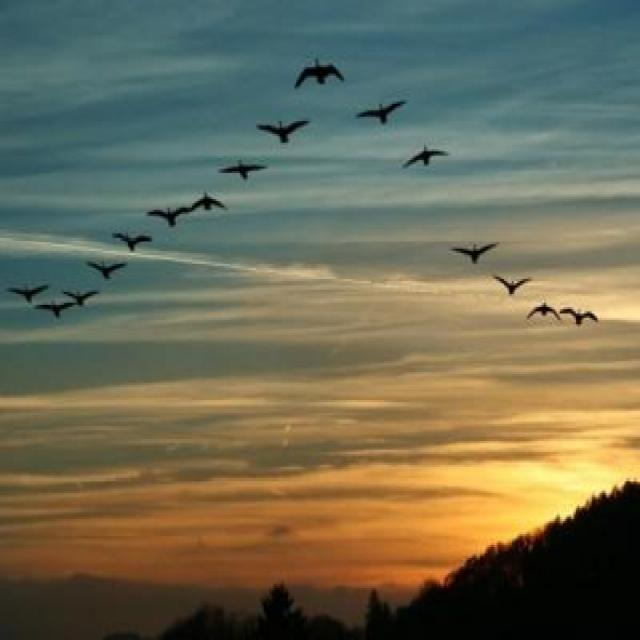birds: (353, 94, 411, 130), (290, 55, 349, 89), (400, 140, 451, 177), (255, 117, 312, 147), (108, 227, 154, 257), (4, 277, 51, 306), (448, 242, 498, 269), (216, 158, 270, 182), (145, 203, 196, 228), (84, 256, 131, 281), (493, 270, 531, 299), (526, 300, 563, 328), (60, 283, 101, 308), (191, 189, 228, 216), (560, 304, 597, 328), (35, 300, 75, 320)
